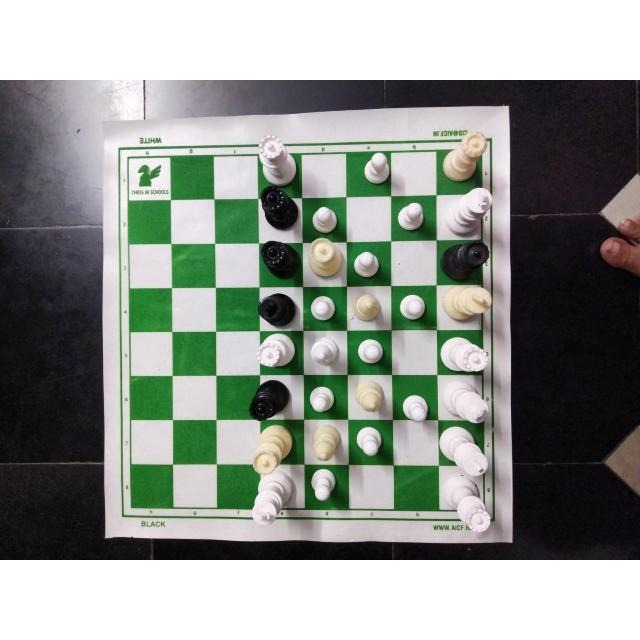black-king: (257, 293, 299, 325)
black-queen: (440, 238, 488, 283), (259, 186, 301, 231), (247, 380, 293, 420), (256, 238, 295, 277)
white-bishop: (310, 427, 349, 466), (351, 292, 382, 328), (352, 382, 385, 412), (306, 334, 338, 364)
white-king: (437, 426, 492, 482), (247, 475, 297, 527), (439, 379, 495, 425), (440, 188, 491, 232), (440, 287, 497, 322)
white-pawn: (310, 203, 346, 235), (401, 393, 435, 426), (307, 469, 339, 503), (356, 426, 384, 461), (360, 153, 392, 183), (394, 293, 427, 322), (306, 386, 340, 414), (351, 251, 384, 279), (307, 298, 338, 326), (357, 337, 385, 367), (396, 203, 424, 230)
white-queen: (438, 482, 490, 532), (442, 131, 487, 185), (440, 329, 492, 373), (255, 138, 303, 182), (252, 422, 292, 472), (306, 238, 347, 282), (253, 334, 297, 370)
